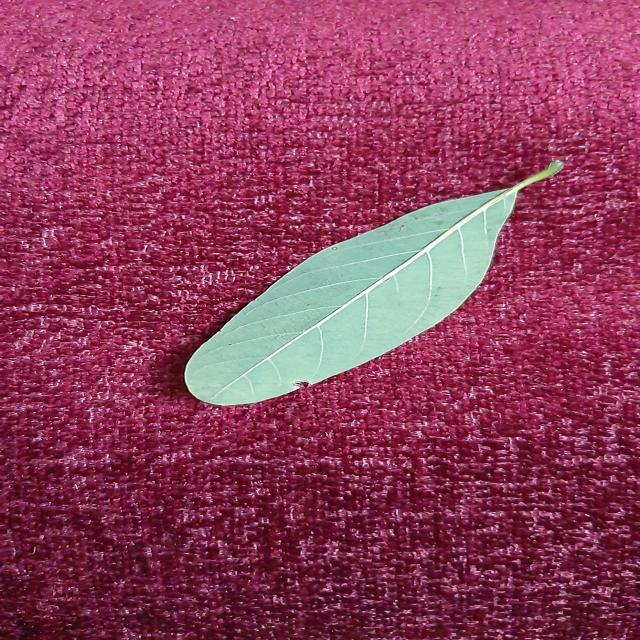seethaphala: (184, 161, 564, 405)
